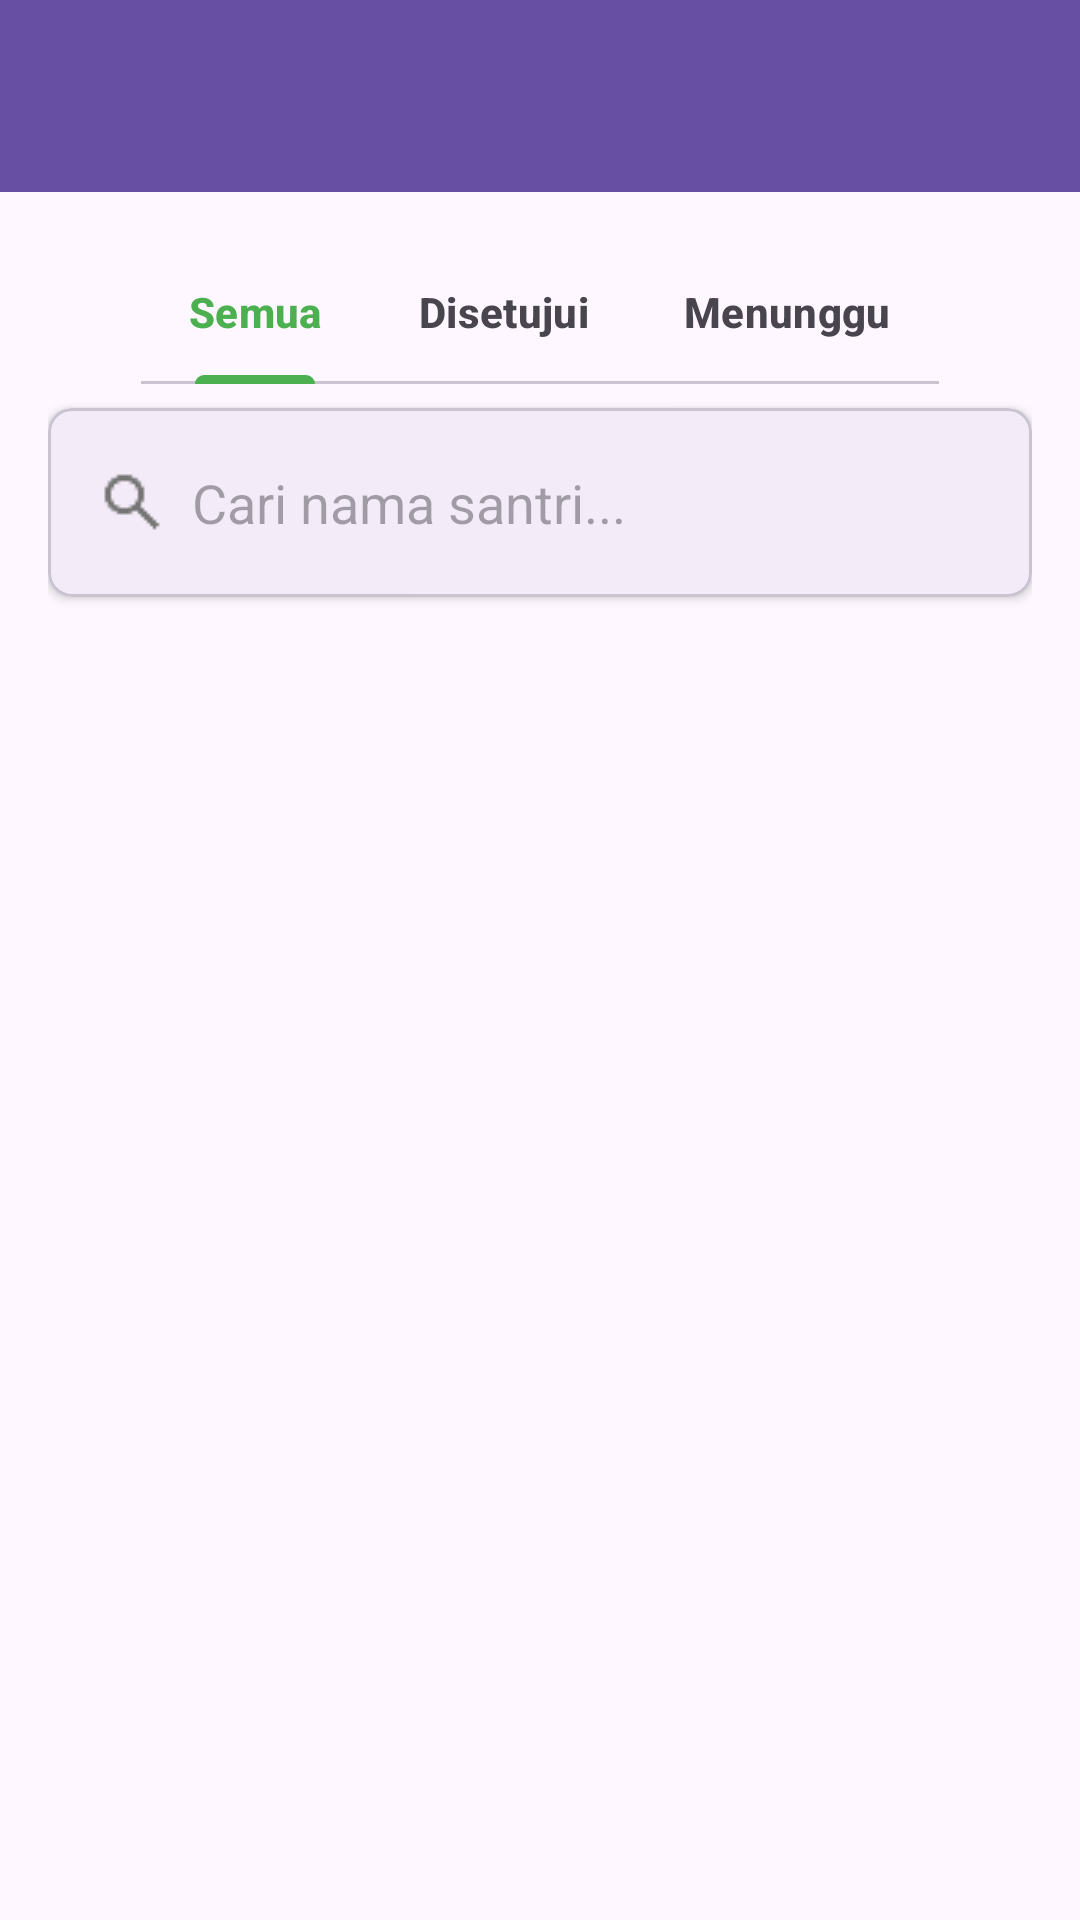

Screen size 1080px×1920px. Icon name, then its box in pixels as (x1, y1, x2, y2):
search: (104, 474, 160, 530)
